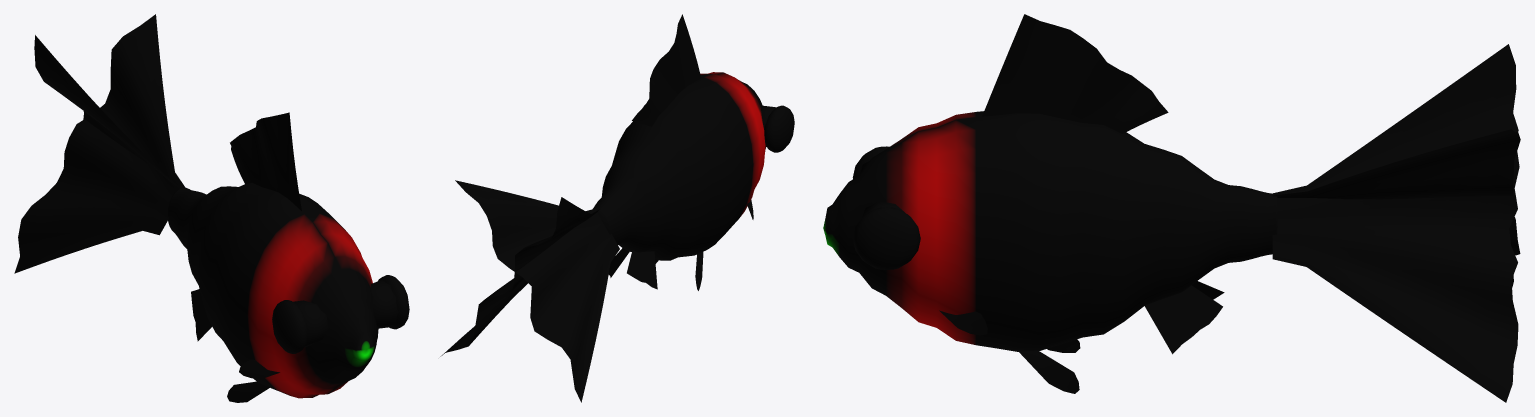
File: goldfish-moor.glb
The picture shows the model from 3 angles, left to right: view 1: azimuth 30°, elevation 25°; view 2: azimuth 150°, elevation 25°; view 3: azimuth 270°, elevation 25°; orthographic projection. The views are drawn at different scales.
Visible parts, largest first — view 1: gfmoor_body, gfmoor_caudalR, gfmoor_dorsal, gfmoor_caudalL, gfmoor_eyeL, gfmoor_bodyStalkR, gfmoor_bodyStalkL, gfmoor_eyeR, gfmoor_pelvicL, gfmoor_analR, gfmoor_pectoralL; view 2: gfmoor_body, gfmoor_caudalR, gfmoor_dorsal, gfmoor_caudalL, gfmoor_eyeL, gfmoor_analR; view 3: gfmoor_body, gfmoor_caudalL, gfmoor_dorsal, gfmoor_caudalR, gfmoor_eyeR, gfmoor_analL, gfmoor_pelvicR, gfmoor_pectoralR.
Boxes of the visible parts, x1,y1,x2,y2 form: gfmoor_body: (167, 182, 378, 398); gfmoor_caudalR: (14, 14, 185, 273); gfmoor_dorsal: (230, 112, 301, 210); gfmoor_caudalL: (34, 35, 182, 189); gfmoor_eyeL: (272, 300, 307, 353); gfmoor_bodyStalkR: (371, 279, 398, 328); gfmoor_bodyStalkL: (293, 300, 328, 347); gfmoor_eyeR: (378, 275, 409, 329); gfmoor_pelvicL: (227, 381, 269, 402); gfmoor_analR: (191, 289, 211, 341); gfmoor_pectoralL: (239, 359, 279, 378); gfmoor_body: (593, 72, 765, 260); gfmoor_caudalR: (455, 180, 619, 402); gfmoor_dorsal: (632, 14, 701, 126); gfmoor_caudalL: (440, 197, 599, 356); gfmoor_eyeL: (764, 105, 794, 152); gfmoor_analR: (627, 250, 657, 289); gfmoor_body: (823, 111, 1277, 351); gfmoor_caudalL: (1272, 44, 1519, 402); gfmoor_dorsal: (982, 14, 1168, 133); gfmoor_caudalR: (1273, 129, 1520, 287); gfmoor_eyeR: (852, 207, 920, 269); gfmoor_analL: (1144, 285, 1222, 354); gfmoor_pelvicR: (1019, 350, 1079, 393); gfmoor_pectoralR: (939, 310, 987, 335).
Size of the model in its own units: 0.5163 by 0.8812 by 1.54.
